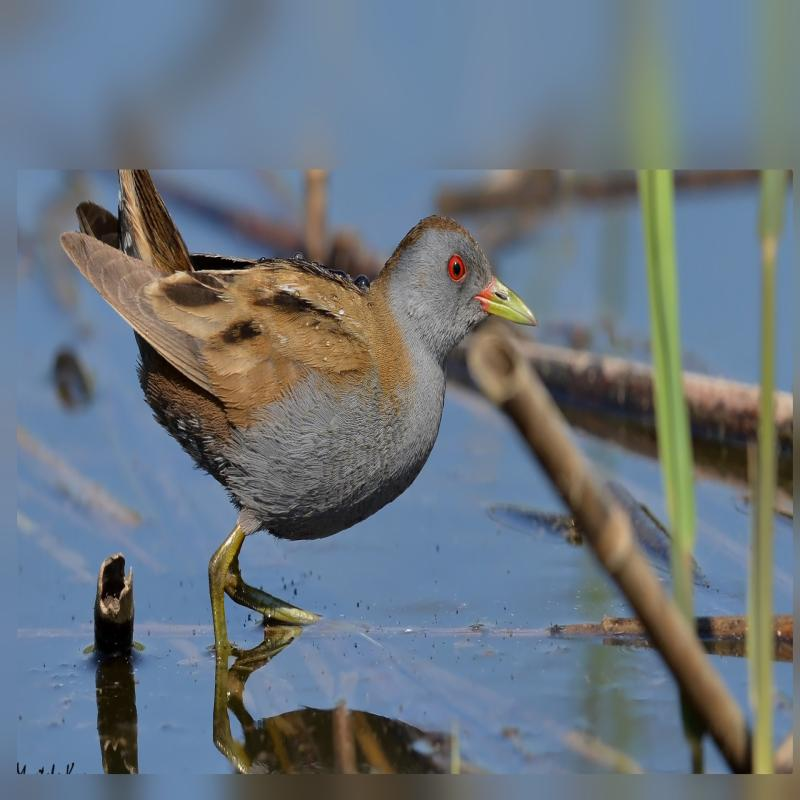little crake: (55, 176, 540, 546)
